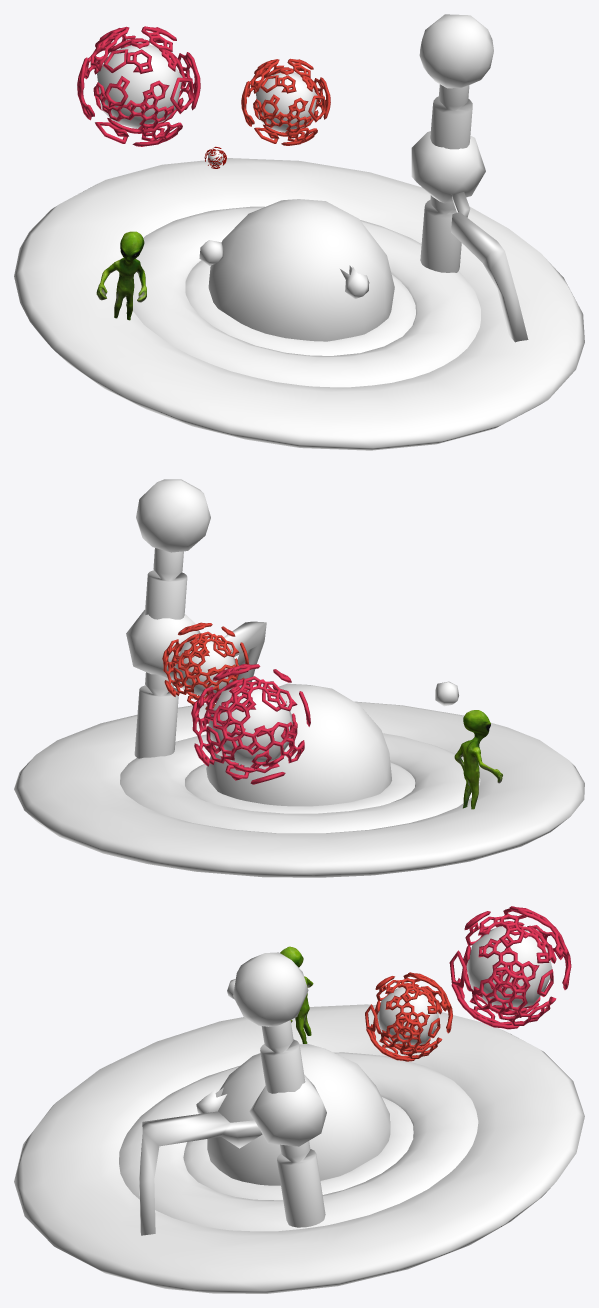
File: asset.glb
The picture shows the model from 3 angles, top to bottom: view 1: azimuth 30°, elevation 25°; view 2: azimuth 150°, elevation 25°; view 3: azimuth 270°, elevation 25°; orthographic projection.
Parts seen in each view (by area): view 1: Toroide.004, Toroide.001, Esfera.008, Plano, Toroide.003, Esfera.007, Plano.003, Icosphere, Esfera.006, Cubo, Cilindro.002, Cilindro.003 (+3 smaller); view 2: Toroide.004, Toroide.001, Esfera.008, Plano, Esfera.007, Plano.003, Toroide.003, Cilindro.002, Icosphere, Esfera.006, Cilindro.003, Mesh_0 (+2 smaller); view 3: Toroide.004, Toroide.001, Esfera.008, Plano, Toroide.003, Cubo, Esfera.007, Plano.003, Esfera.006, Cilindro.002, Icosphere, Cilindro.003 (+3 smaller).
Boxes of the visible parts, <box> form: Toroide.004: <box>14,158,584,450</box>; Toroide.001: <box>125,206,480,387</box>; Esfera.008: <box>208,199,394,341</box>; Plano: <box>77,26,200,146</box>; Toroide.003: <box>185,260,415,355</box>; Esfera.007: <box>419,14,493,88</box>; Plano.003: <box>241,58,330,145</box>; Icosphere: <box>97,42,182,128</box>; Esfera.006: <box>411,131,485,203</box>; Cubo: <box>451,192,528,342</box>; Cilindro.002: <box>420,195,461,272</box>; Cilindro.003: <box>430,84,472,149</box>; Toroide.004: <box>14,701,584,877</box>; Toroide.001: <box>120,733,480,833</box>; Esfera.008: <box>206,683,391,806</box>; Plano: <box>191,664,310,784</box>; Esfera.007: <box>136,479,210,552</box>; Plano.003: <box>162,622,248,709</box>; Toroide.003: <box>185,762,415,813</box>; Cilindro.002: <box>134,672,178,758</box>; Icosphere: <box>208,684,292,768</box>; Esfera.006: <box>126,610,200,678</box>; Cilindro.003: <box>145,548,187,619</box>; Mesh_0: <box>454,710,502,809</box>; Toroide.004: <box>14,1004,584,1293</box>; Toroide.001: <box>119,1052,478,1231</box>; Esfera.008: <box>207,1044,390,1185</box>; Plano: <box>449,906,571,1029</box>; Toroide.003: <box>183,1097,413,1200</box>; Cubo: <box>139,1111,262,1235</box>; Esfera.007: <box>233,952,308,1026</box>; Plano.003: <box>365,972,452,1061</box>; Esfera.006: <box>249,1075,326,1146</box>; Cilindro.002: <box>277,1141,325,1227</box>; Icosphere: <box>466,926,552,1010</box>; Cilindro.003: <box>260,1020,305,1093</box>.
Bounding box in the file's own units: 15.58 × 10.11 × 15.57.
17 materials, 4 textured.
